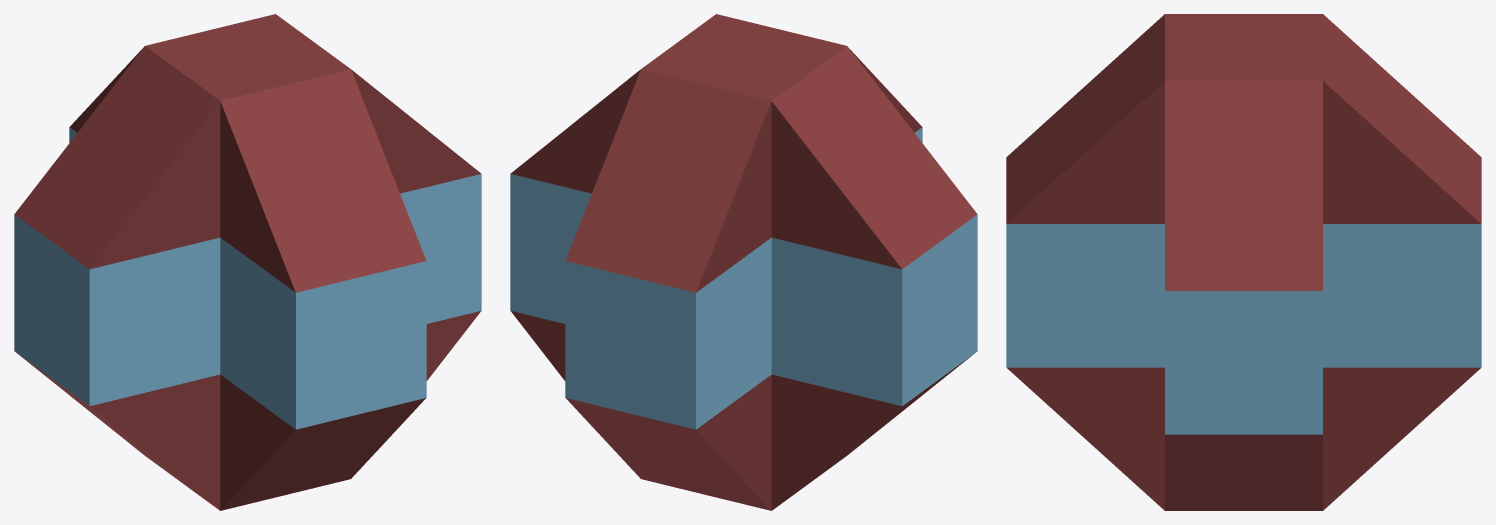
Rendered from egg_anshun_saurus.obj.
3 renders of one model, left to right at view 1: azimuth 30°, elevation 25°; view 2: azimuth 150°, elevation 25°; view 3: azimuth 270°, elevation 25°, orthographic. The views are drawn at different scales.
Visible parts, largest first — view 1: egg_anshun_saurus; view 2: egg_anshun_saurus; view 3: egg_anshun_saurus.
Part boxes in pixels (x1,y1,x2,y2): egg_anshun_saurus: [14, 14, 481, 510]; egg_anshun_saurus: [510, 14, 977, 510]; egg_anshun_saurus: [1006, 14, 1481, 510].
Bounding box in the file's own units: 10.33 × 10.33 × 10.34.
